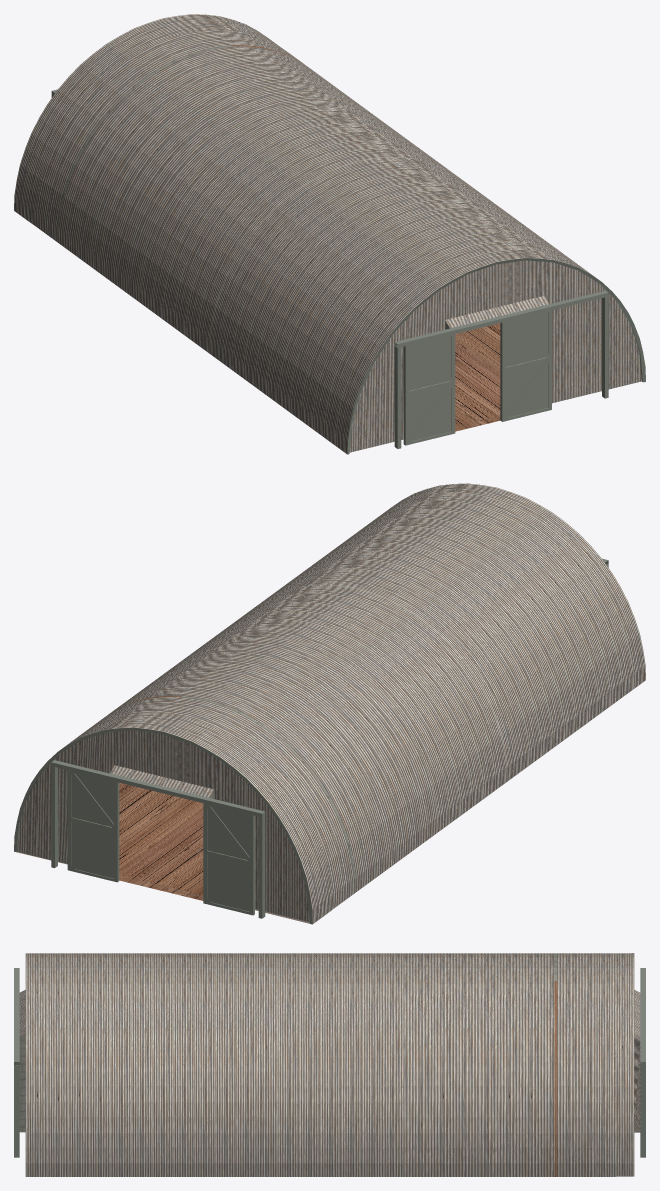
The model's file is LongerQuonset2a.glb.
3 renders of one model, top to bottom at view 1: azimuth 30°, elevation 25°; view 2: azimuth 150°, elevation 25°; view 3: azimuth 270°, elevation 25°, orthographic. The views are drawn at different scales.
Visible parts, largest first — view 1: quonset.001; view 2: quonset.001; view 3: quonset.001.
Part boxes in pixels (x1=…): quonset.001: x1=14, y1=14, x2=645, y2=454; quonset.001: x1=14, y1=483, x2=645, y2=924; quonset.001: x1=14, y1=953, x2=645, y2=1176.
Bounding box in the file's own units: 9.15 × 4.59 × 18.37.
4 materials, 4 textured.
